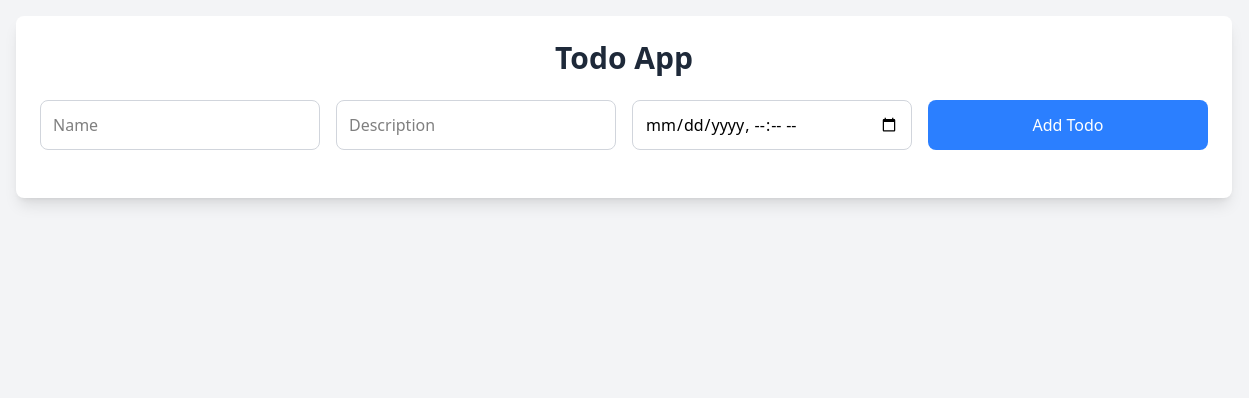
Home › terminates a todo
The image size is (1249, 398).
Type "Test Todo" into the field with placeholder "Name". click: (180, 125)
box: 40,100 -> 320,150
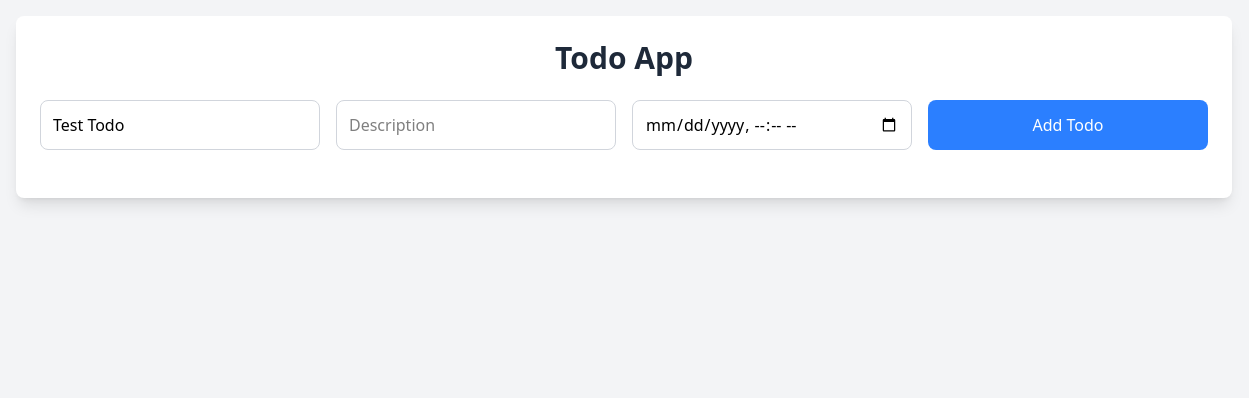
Type "Test Description" into the field with placeholder "Description". click: (476, 125)
box: 336,100 -> 616,150
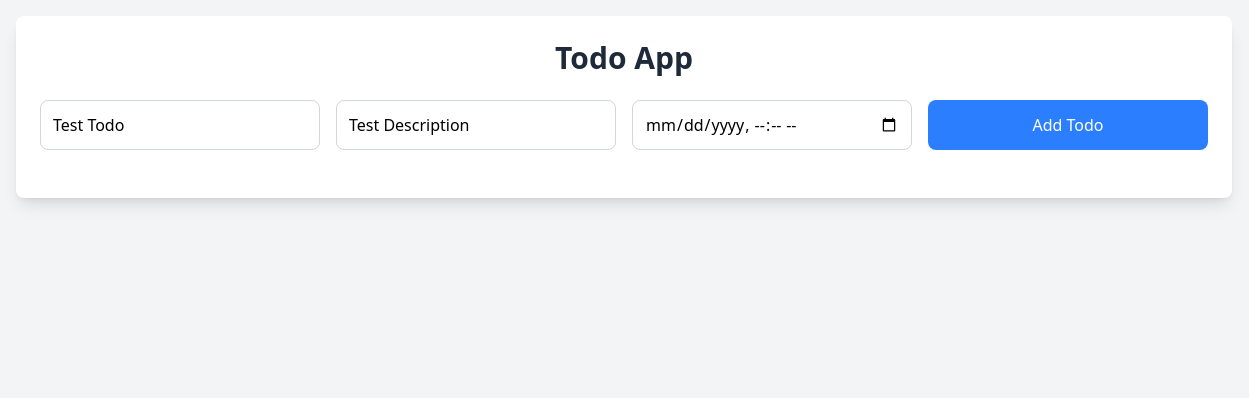
Type "2023-01-01T12:00" into the field with test id "date-input". click: (772, 125)
box: 632,100 -> 912,150
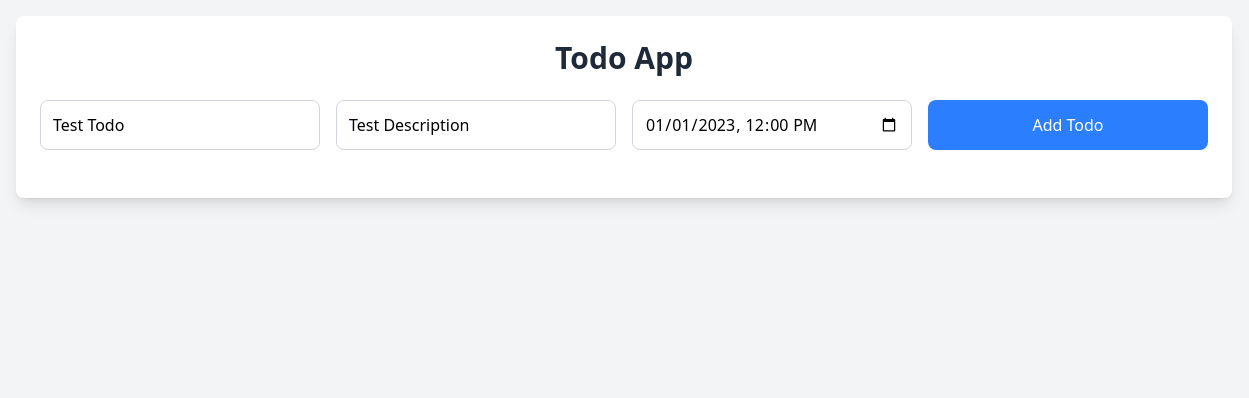
Click the button "Add Todo". click: click(1068, 125)
box: 928,100 -> 1208,150
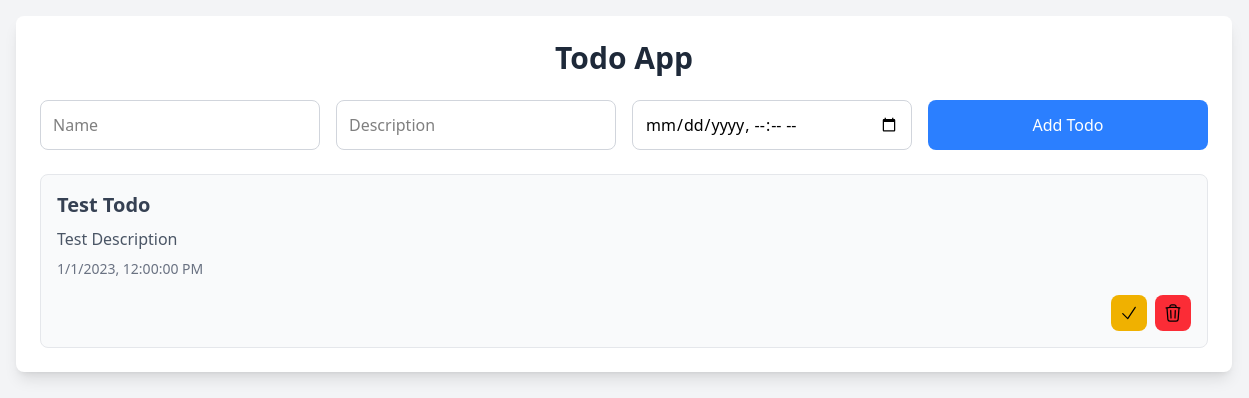
Click the button with test id "terminate-button-0". click: click(1129, 313)
box: 1111,295 -> 1147,331
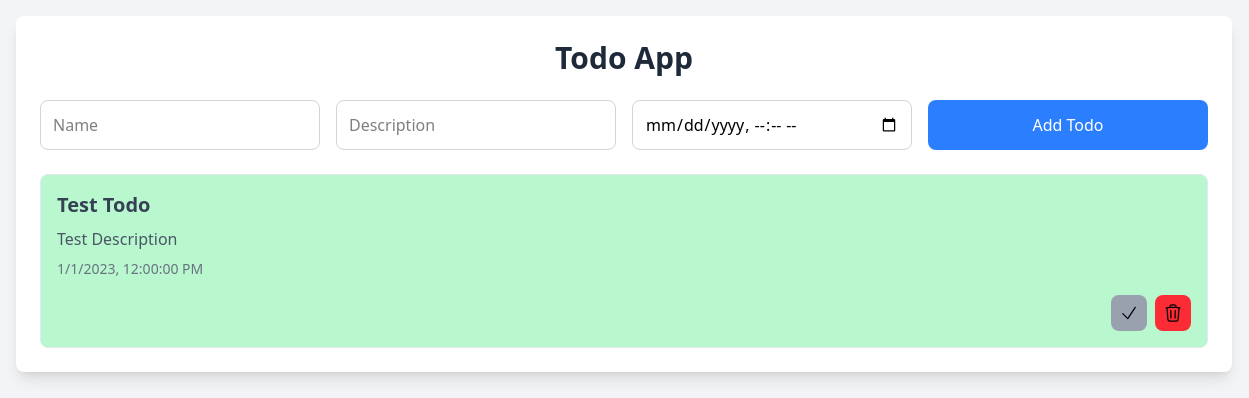
Now the button with test id "terminate-button-0" is disabled, box 1111,295 -> 1147,331
